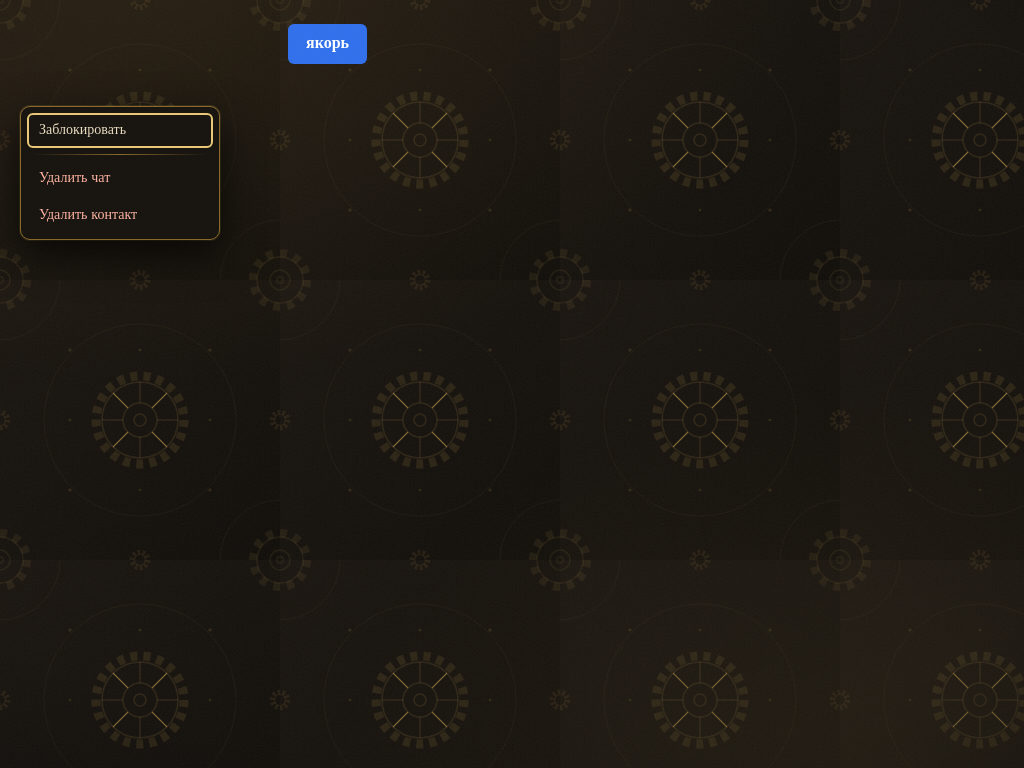
Test: ContextMenu — портал в body (T081: containing block .panel с backdrop-filter) › после закрытия узел уходит из body
expect the menu with class "ctx-menu" is shown: met, box [20, 106, 220, 240]
Click the element showing "якорь Заблокировать Удалить чат Удалить контакт": {"x": 512, "y": 384} [0, 0, 1023, 767]
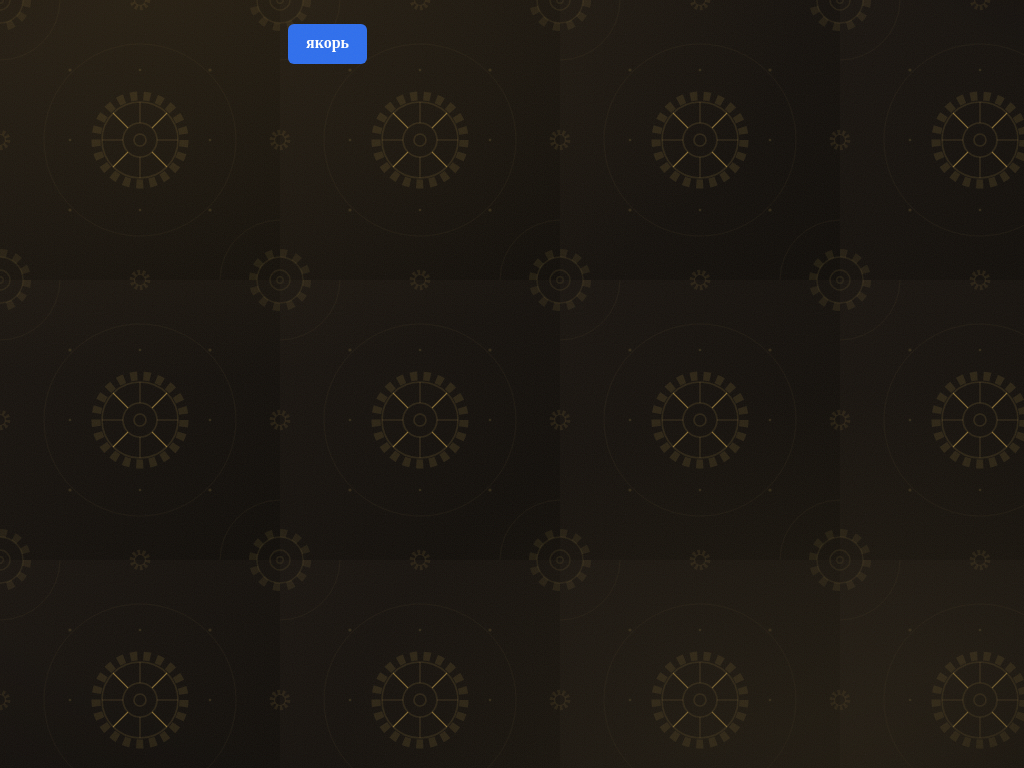
expect the menu with class "ctx-menu" is gone: met
